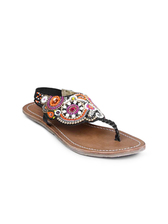shoes: (14, 82, 151, 157)
